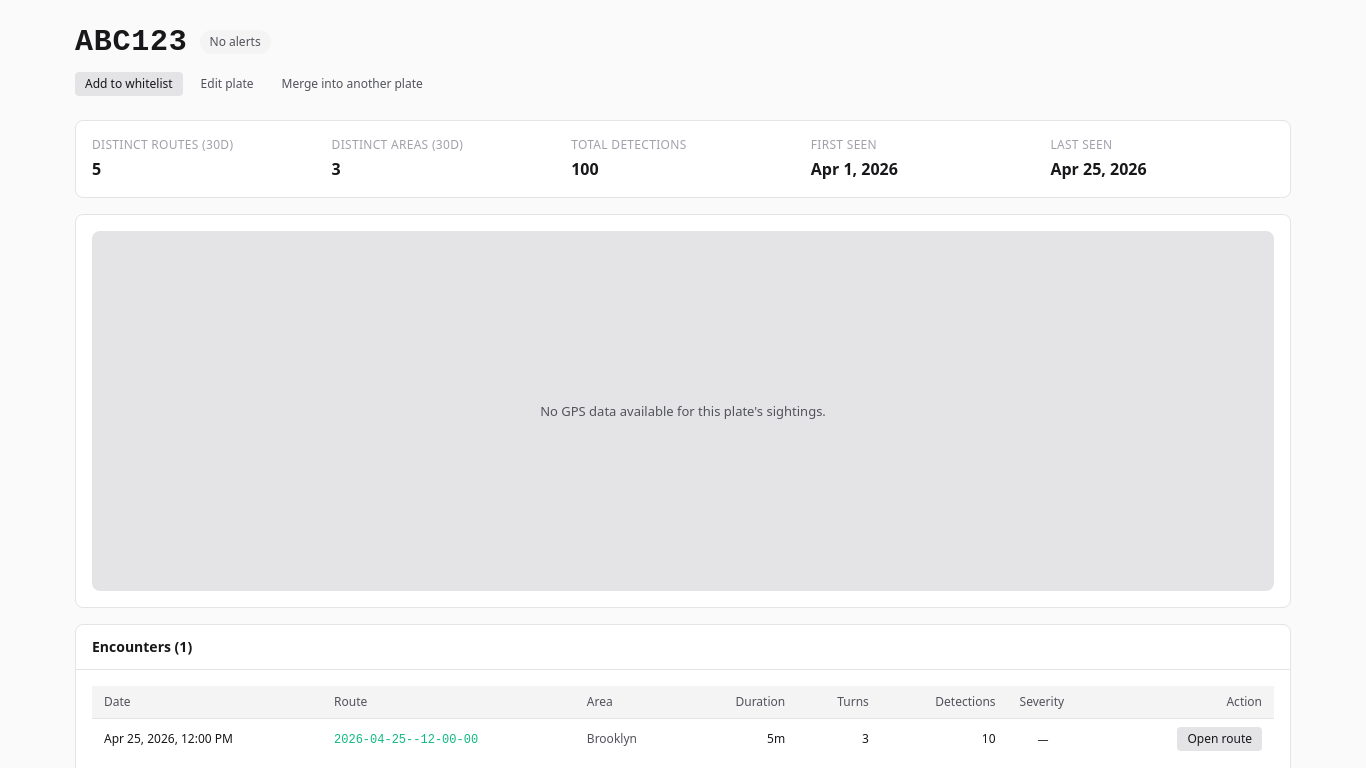
Scenario: PlateDetailPage: edit -> hint -> merge flow › exposes a merge action when the edit response carries match_hash_b64
Click the button with test id "plate-action-edit" at (227, 84), box [191,72,264,96]
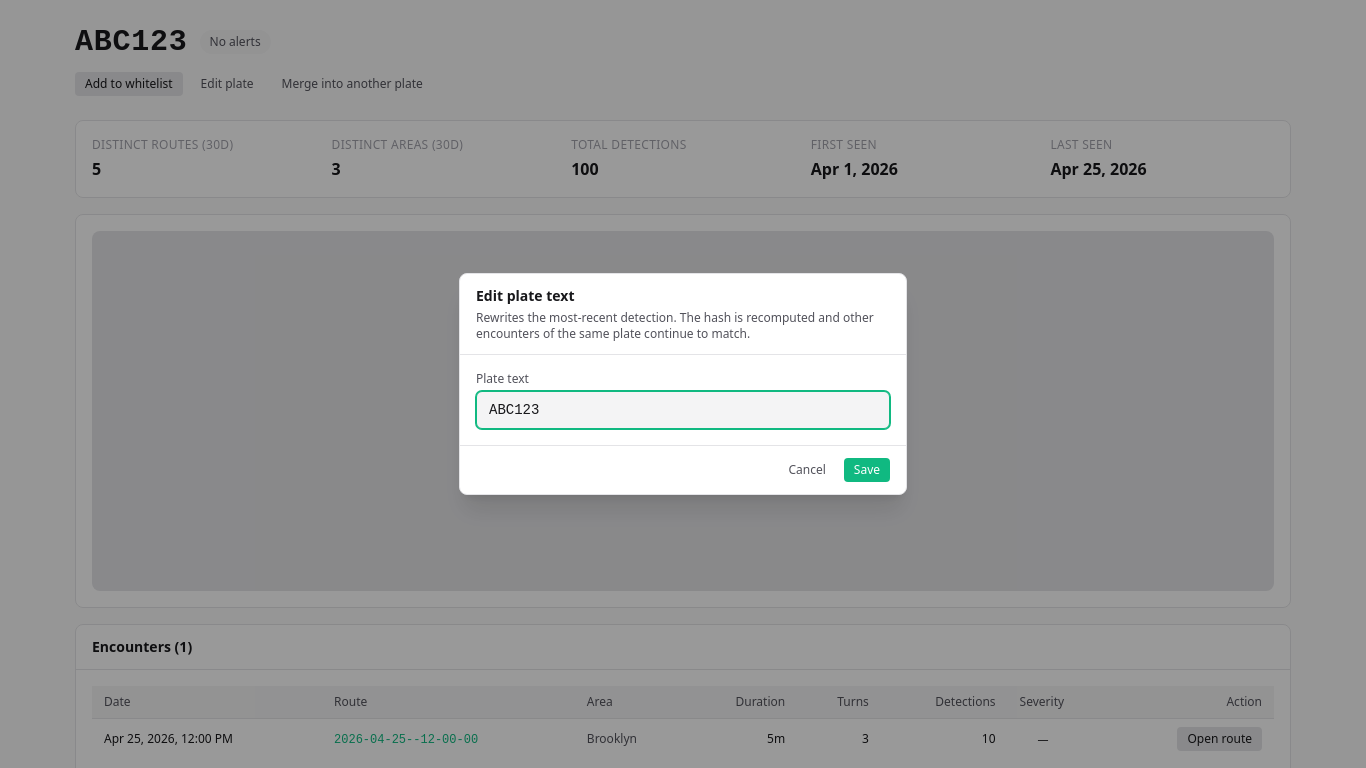
Expected: the dialog with test id "edit-plate-modal" is shown
Replace the text in the field with test id "edit-plate-input" with "NEW999" at (683, 410), box [476,391,890,429]
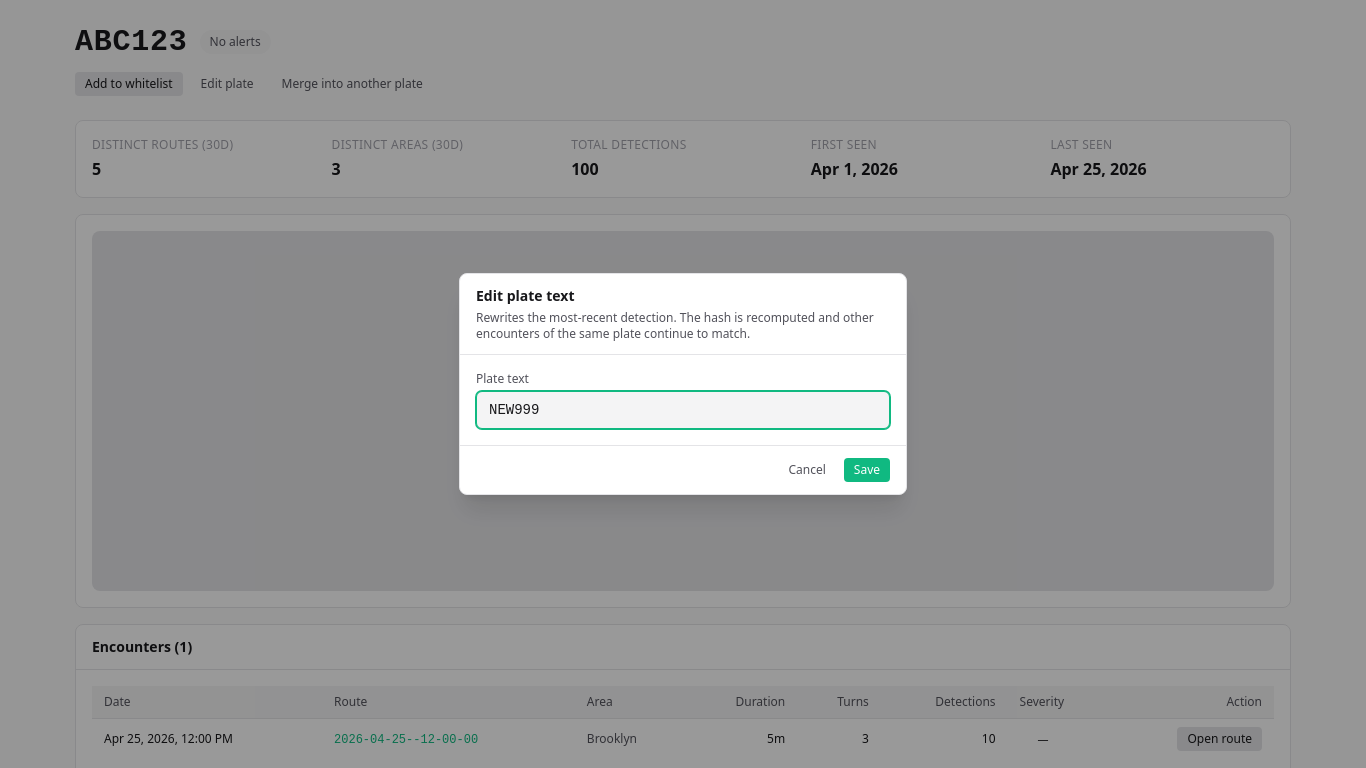
Click the button with test id "edit-plate-submit" at (867, 470), box [844,458,890,482]
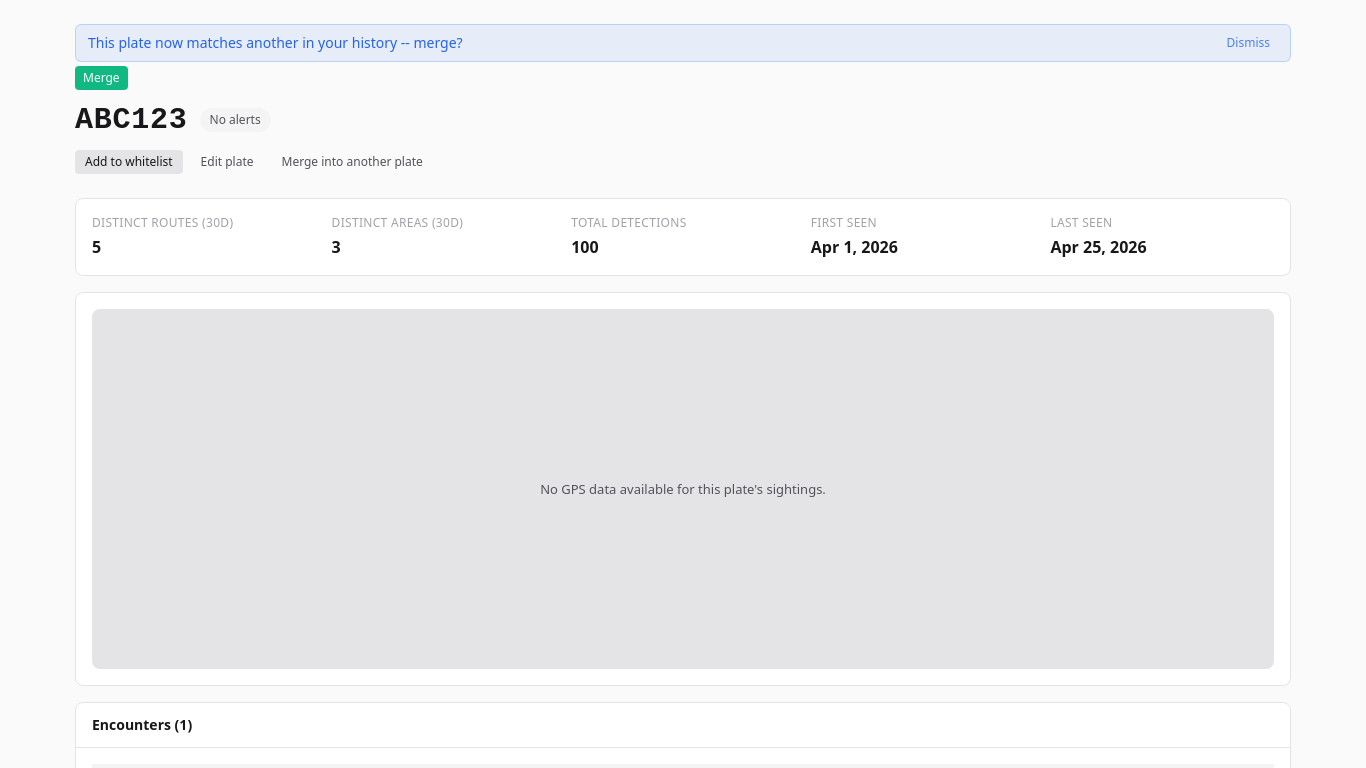
Expected: the button with test id "plate-toast-action" is shown
Click the button with test id "plate-toast-action" at (101, 78), box [75,66,128,90]
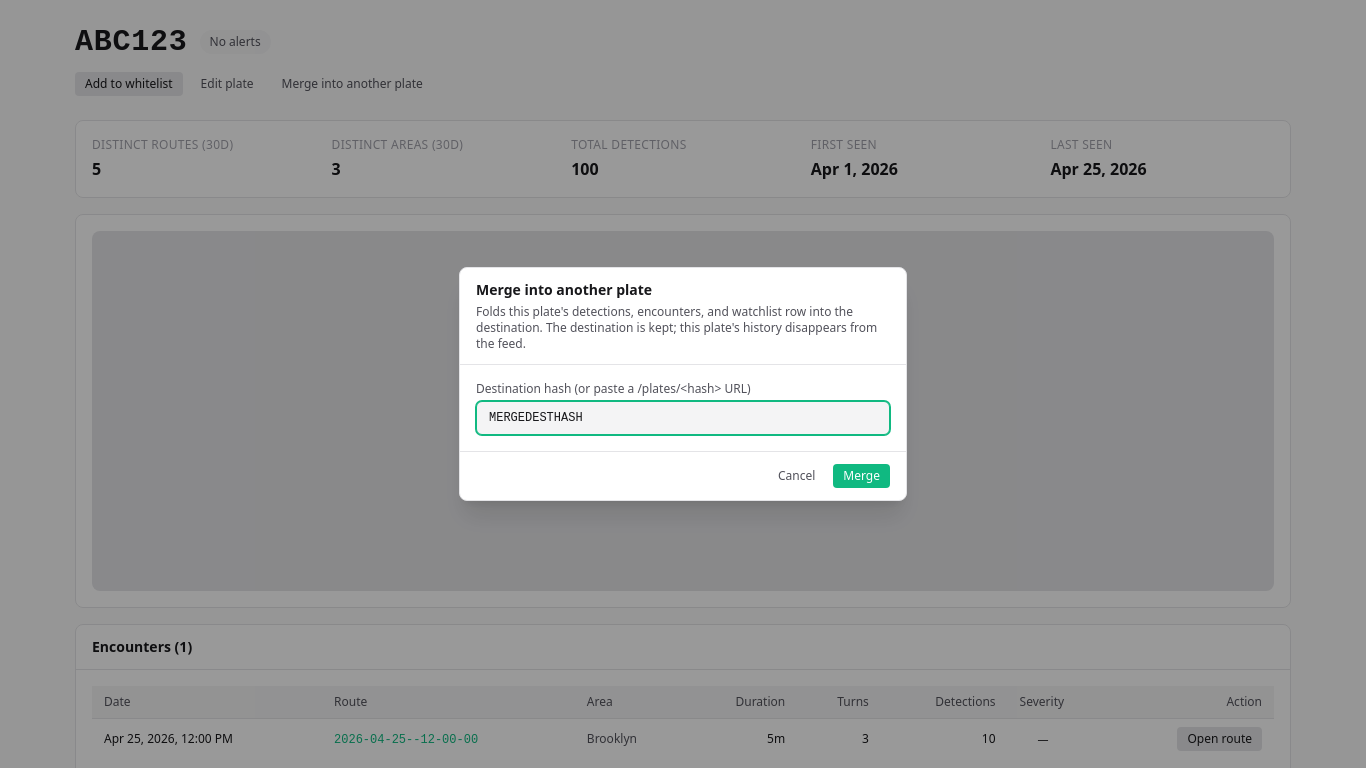
Expected: the field with test id "merge-plate-input" holds "MERGEDESTHASH", [476,401,890,435]
